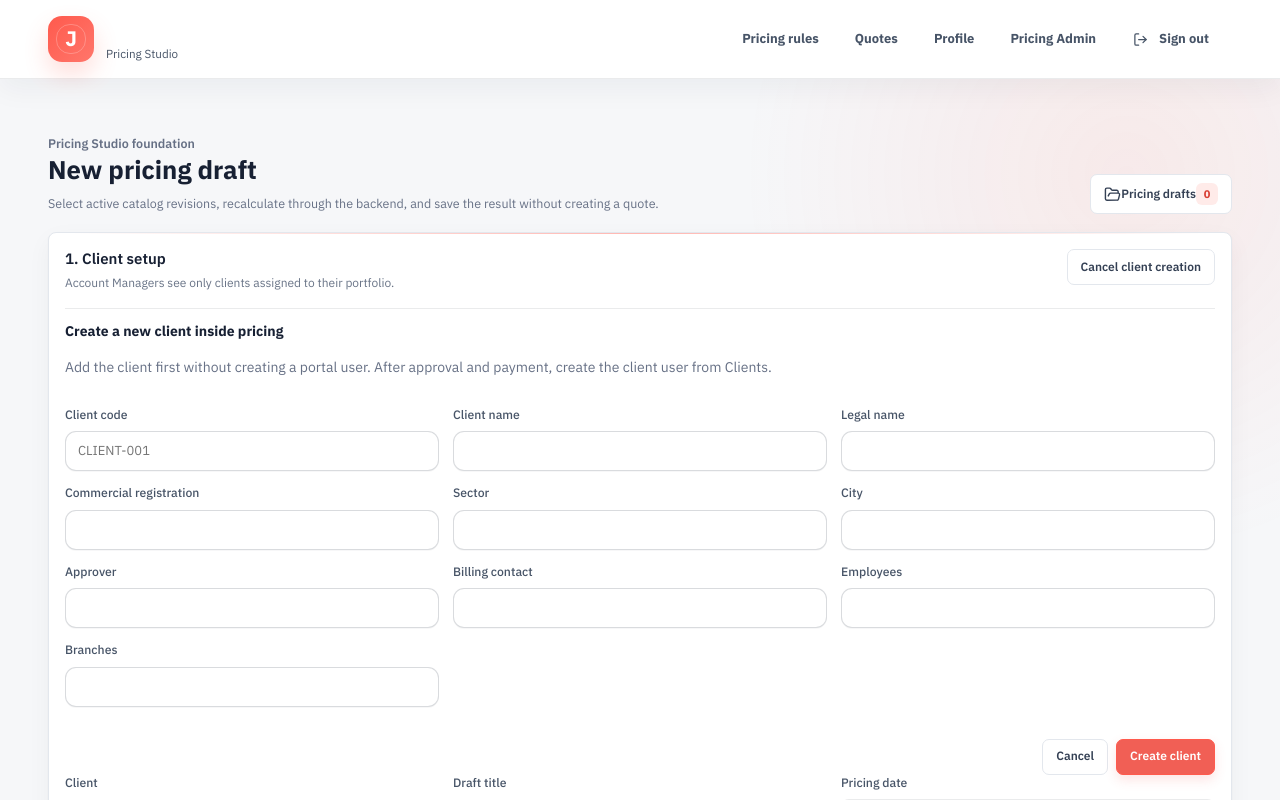
Test case: PR 6 pricing UI › creates a new client inside pricing and selects it for the draft
This screenshot has width=1280, height=800.
Expected: the text "Create a new client inside pricing" is shown, [65,321,283,342]
Type "new-client" into the field labelled "Client code" at (252, 451), box [65,431,439,471]
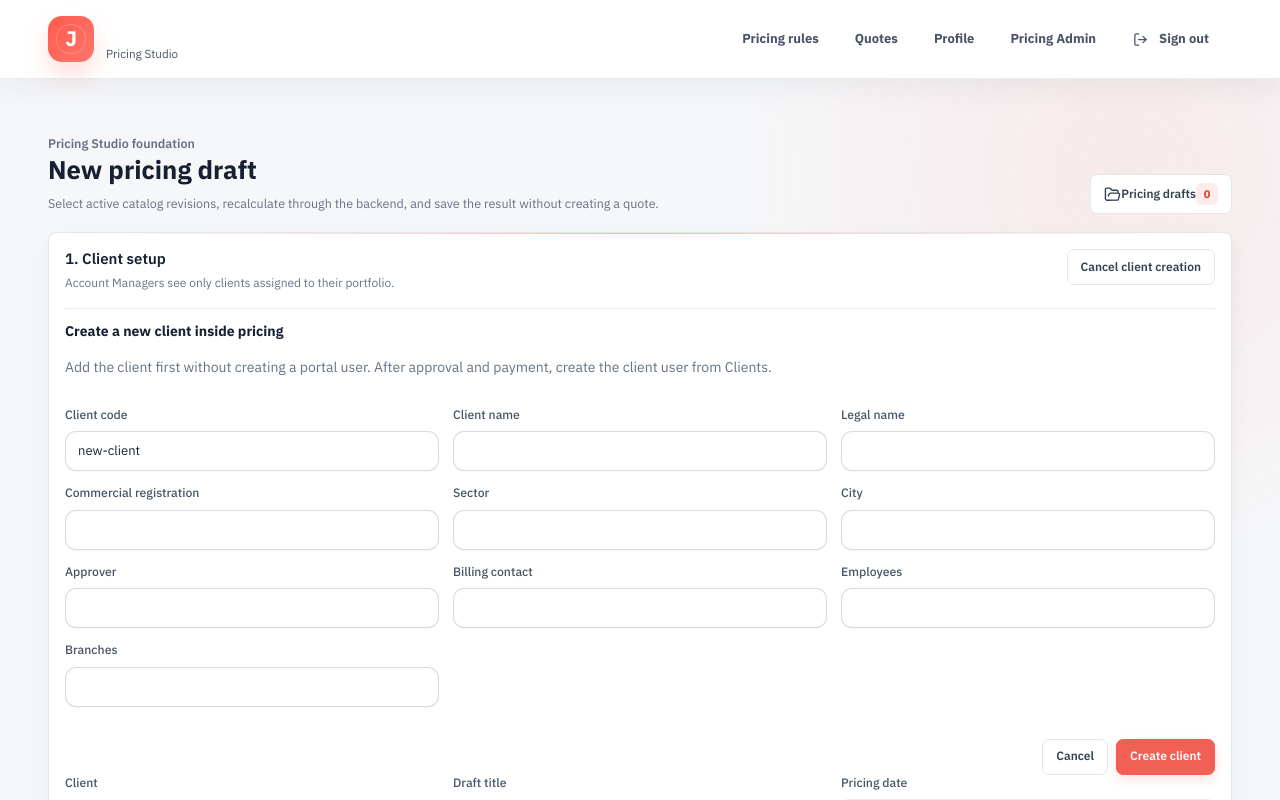
Type "New Client" into the field labelled "Client name" at (640, 451), box [453,431,827,471]
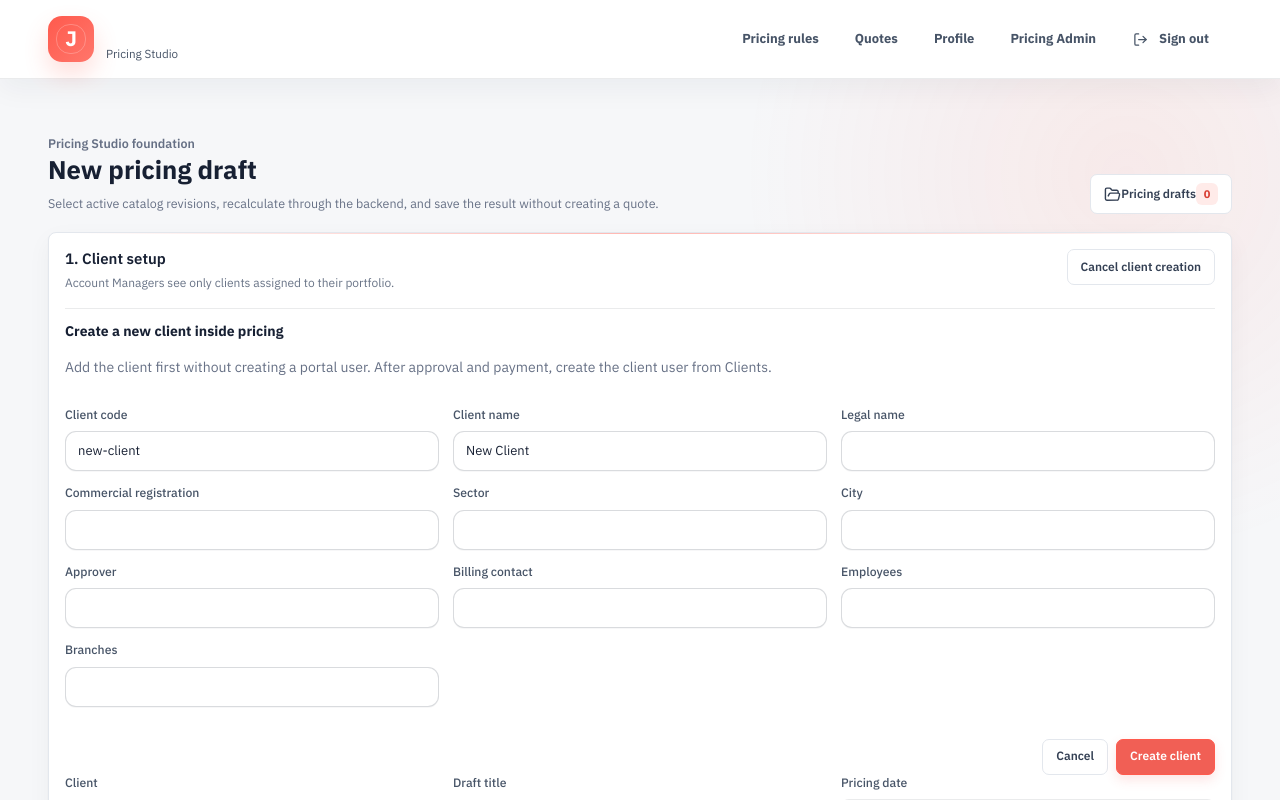
Type "HR" into the field labelled "Sector" at (640, 530), box [453,510,827,550]
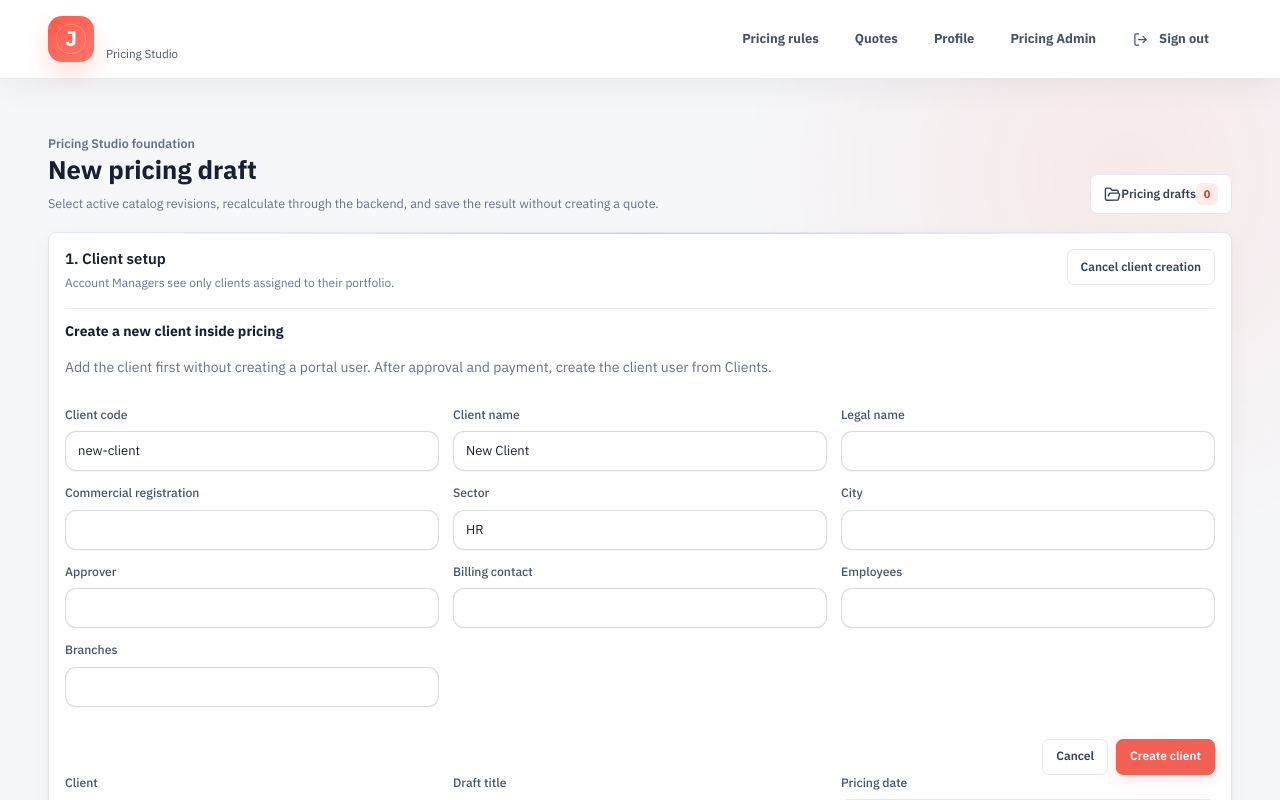
Type "New Approver" into the field labelled "Approver" at (252, 608), box [65,588,439,628]
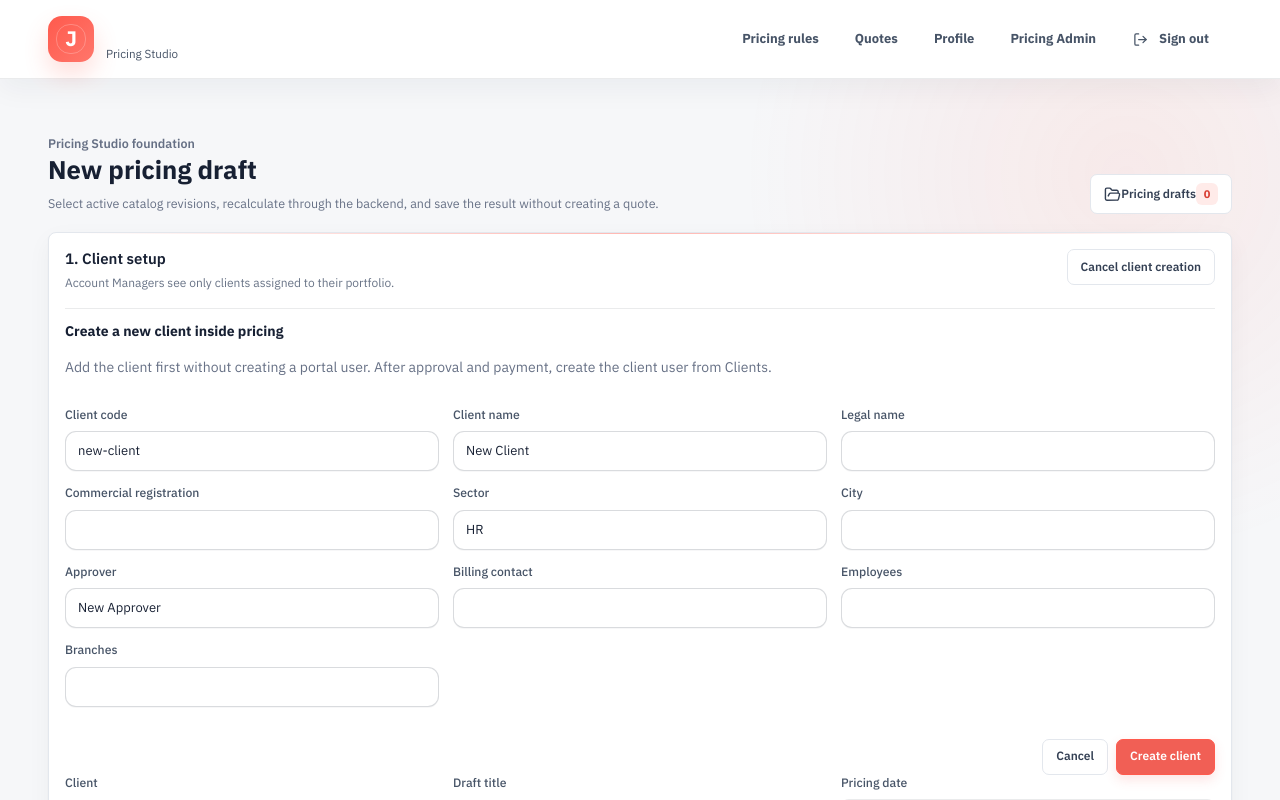
Click the button "Create client" at (1166, 756), box [1116,738,1215,774]
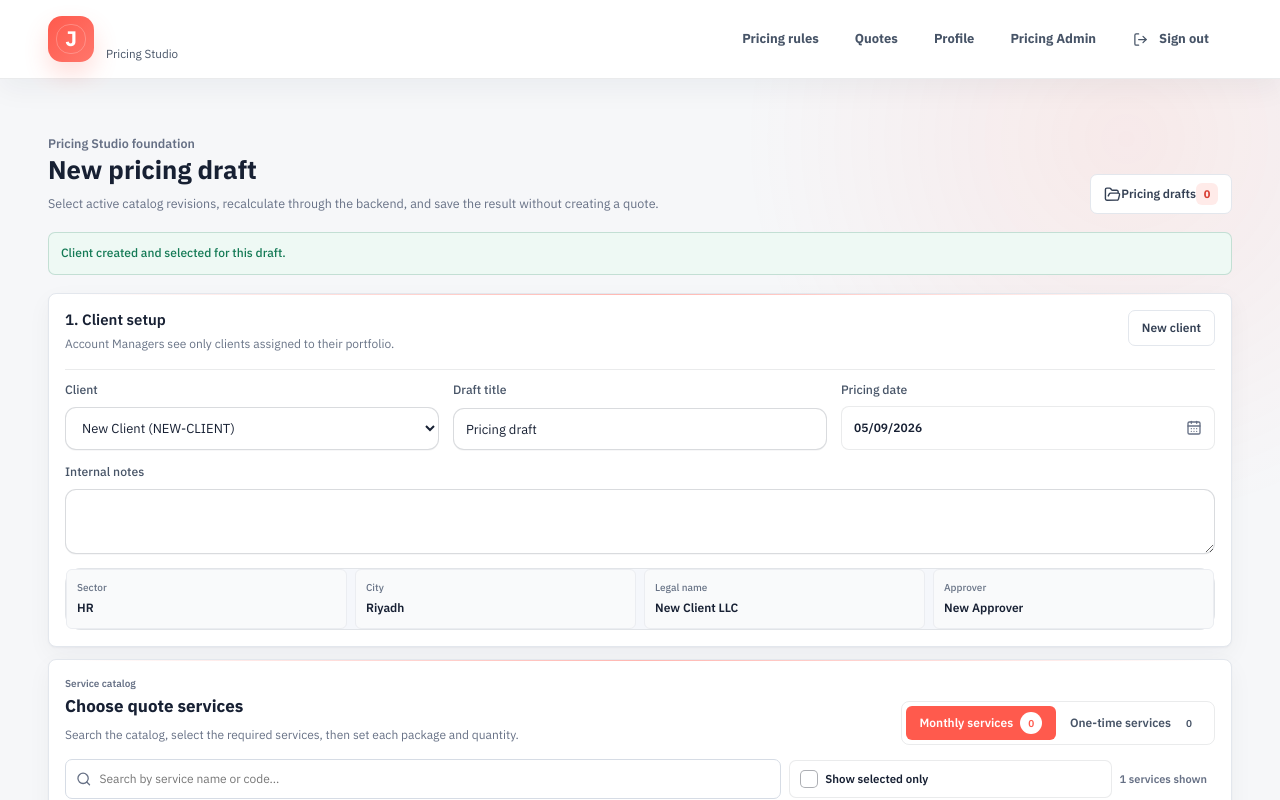
Expected: the text "Client created and selected for this draft." is shown, [48,232,1232,275]
Expected: the dropdown labelled "Client" shows "New Client (NEW-CLIENT)", [65,407,439,450]
